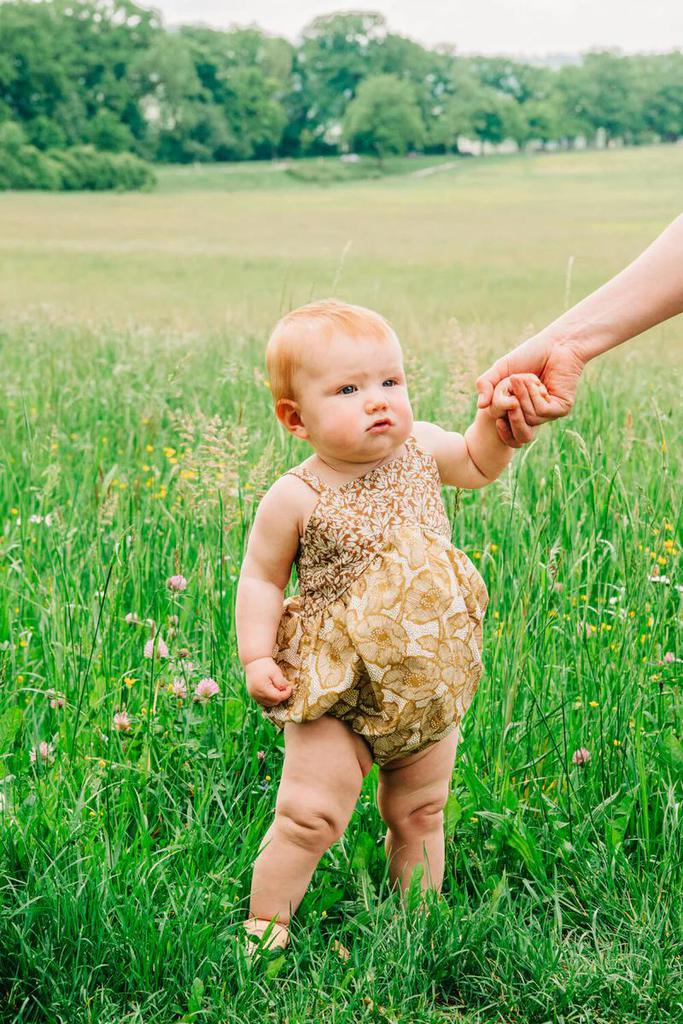child: (186, 284, 551, 971)
